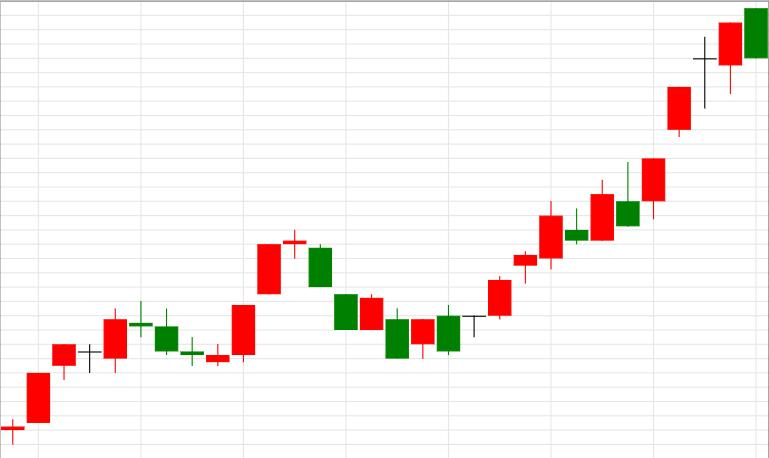evening_star_fall: (206, 230, 332, 366)
